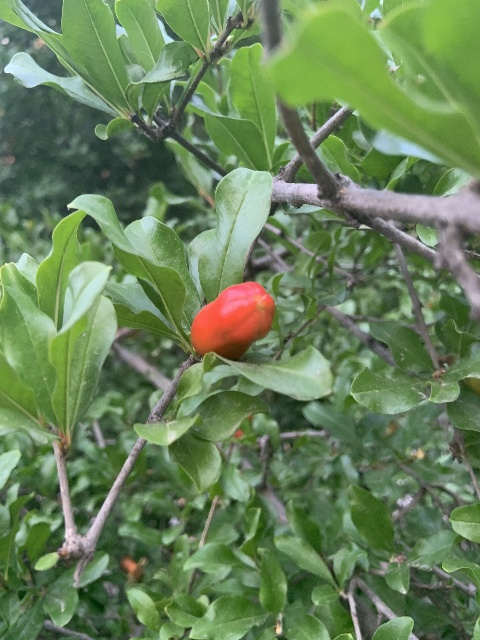bud: (190, 281, 275, 361)
